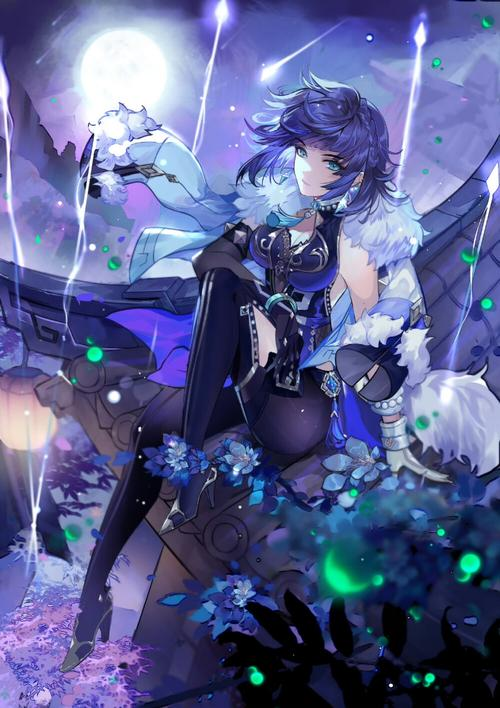夜兰: (56, 77, 435, 680)
